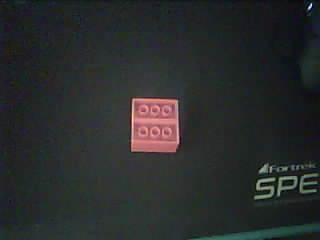lego: (130, 97, 180, 152)
